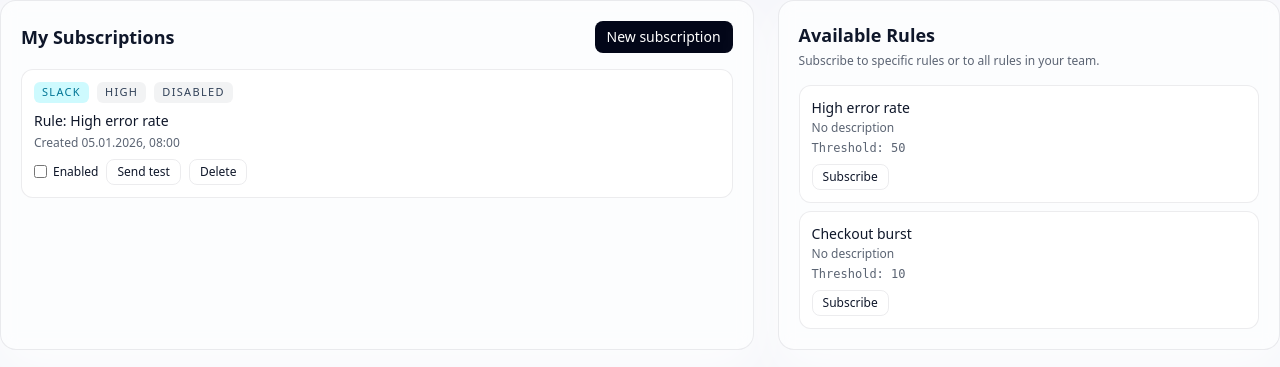
Scenario: enable, disable and test › switches a disabled subscription back on
Click the checkbox named "Enabled: SLACK subscription" at (40, 172), box [34,165,47,178]
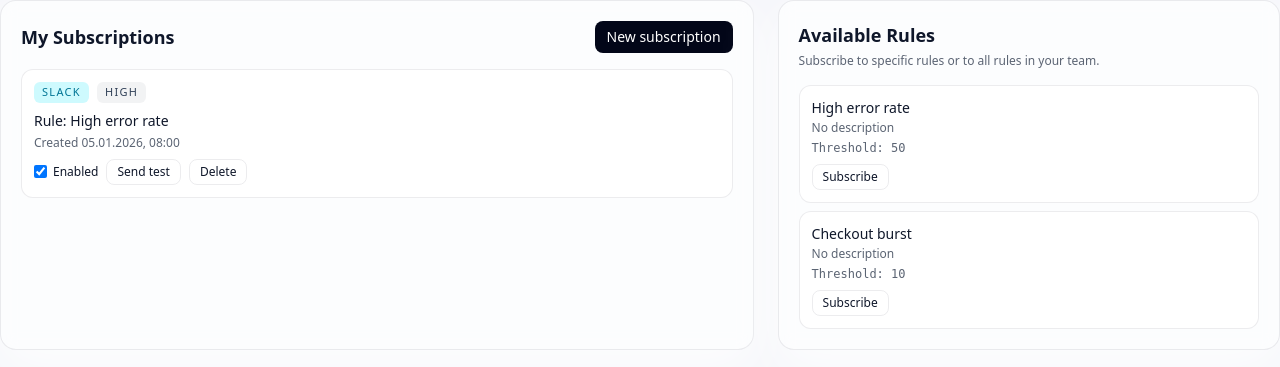
Check: the text "DISABLED" is gone
